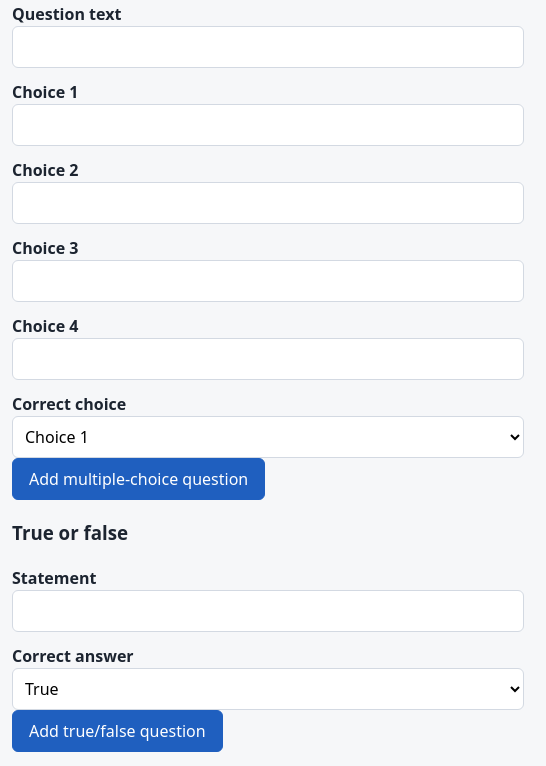
Scenario: QuizAuthoringPage › shows the lock message once an attempt exists
(page scrolled)
Type "Late" into the field labelled "Statement" at (268, 610), box [12,590,524,632]
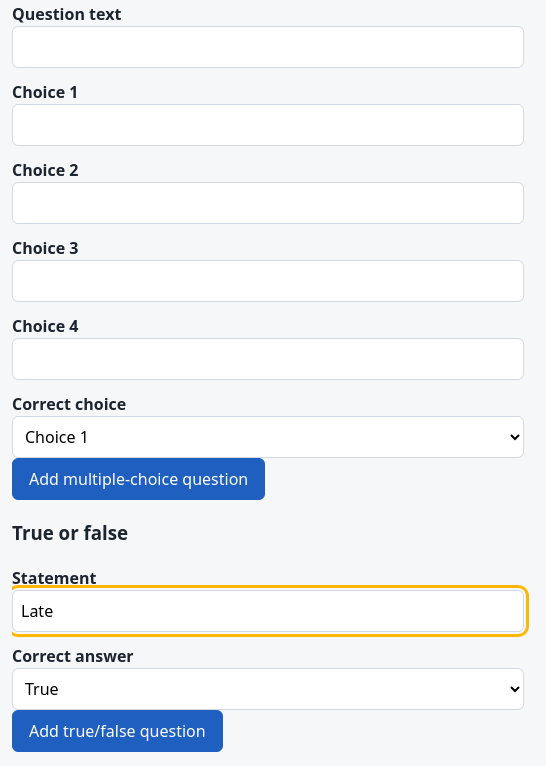
Click the button "Add true/false question" at (117, 730), box [12,710,223,752]
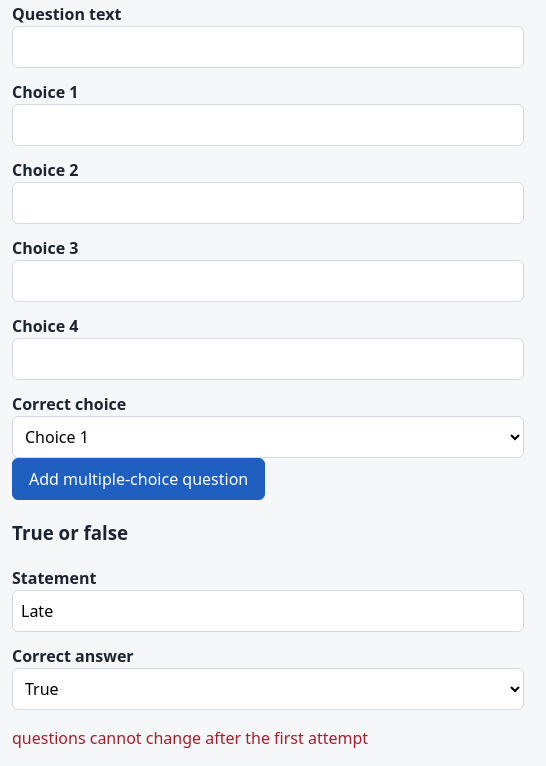
expect the message shows "after the first attempt": met, box [12,726,368,748]
